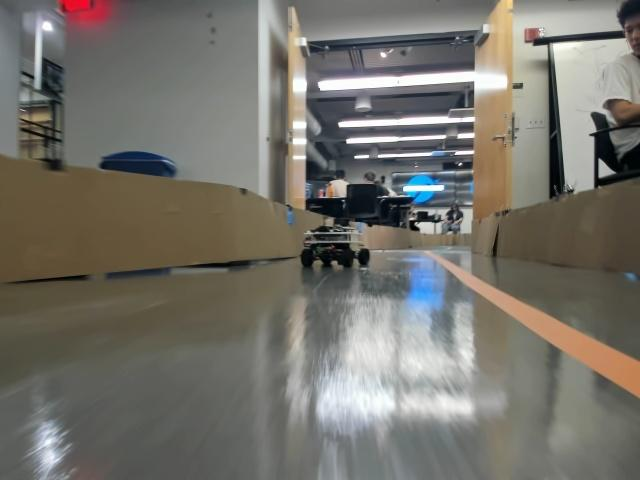Car: (300, 218, 369, 265)
